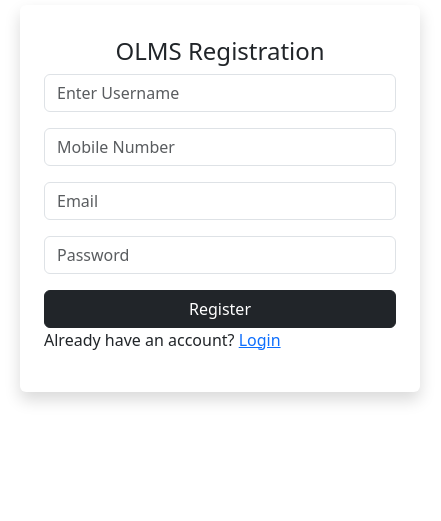
Test case: Register Component › should show validation errors when submitting empty form
// Simulate clicking the submit button without filling the form
Click the button "Register": [220, 309] box [44,290,396,328]
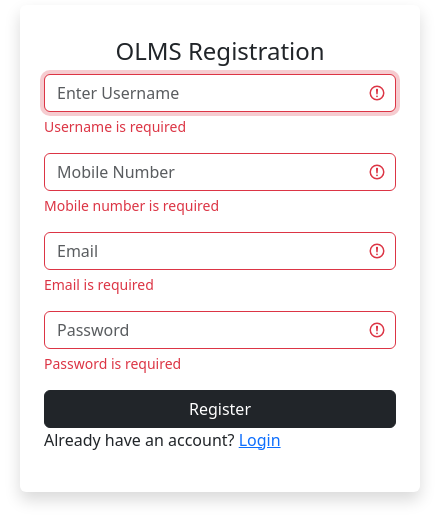
Expected: the text "Username is required" is shown, [44,117,186,136]
Expected: the text "Mobile number is required" is shown, [44,196,219,215]
Expected: the text "Email is required" is shown, [44,275,154,294]
